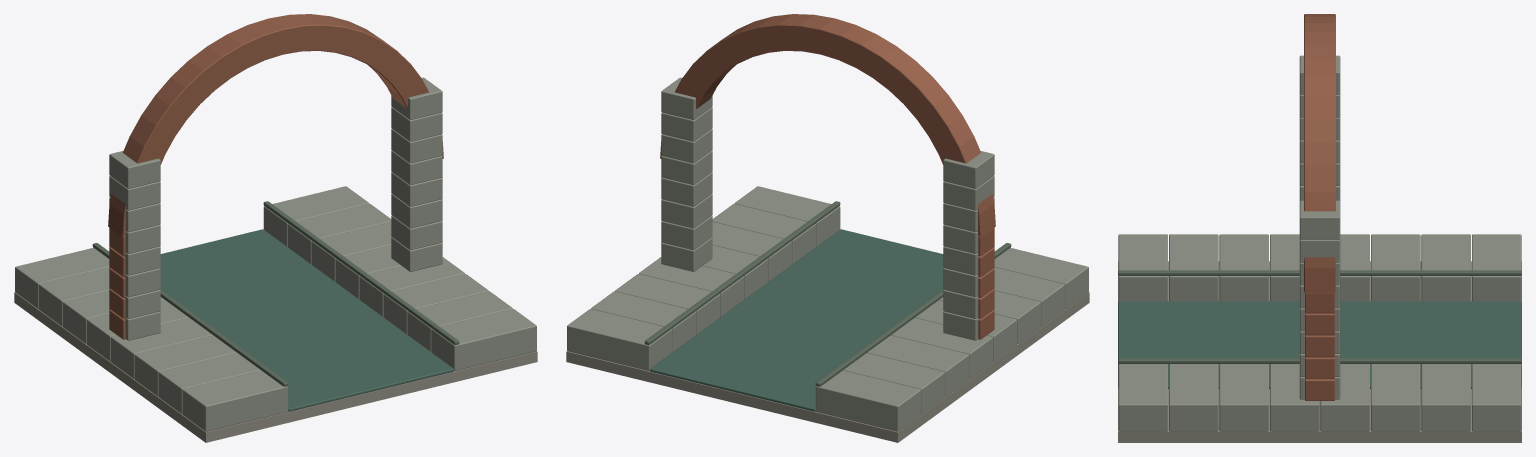
Rendered from undercity-sewers-and-thieves-den-pillar-bay-8ba11fed__25017.glb.
3 views of the same model, side by side, from view 1: azimuth 30°, elevation 25°; view 2: azimuth 150°, elevation 25°; view 3: azimuth 270°, elevation 25° (orthographic). The views are drawn at different scales.
Parts seen in each view (by area): view 1: pillar-bay; view 2: pillar-bay; view 3: pillar-bay.
Part boxes in pixels (x1=…): pillar-bay: x1=14, y1=14, x2=537, y2=442; pillar-bay: x1=566, y1=14, x2=1089, y2=442; pillar-bay: x1=1118, y1=14, x2=1521, y2=442.
Bounding box in the file's own units: 4 × 3.56 × 4.
